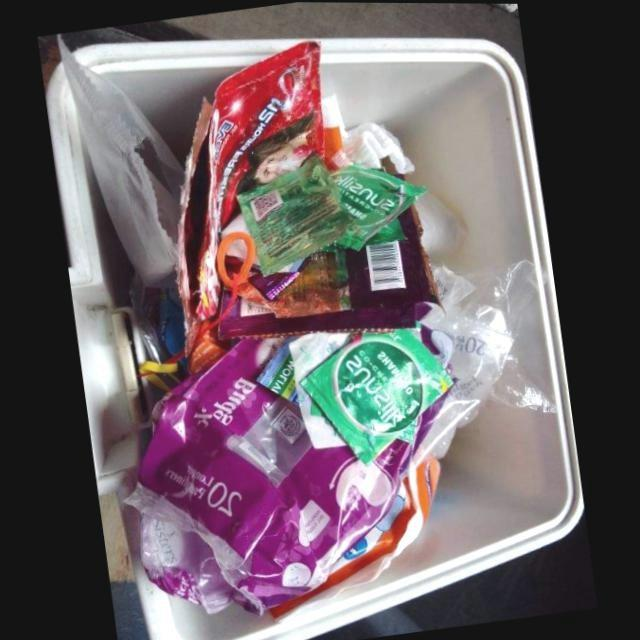paper: (324, 118, 415, 175), (421, 187, 469, 261)
plastic_bag: (123, 335, 416, 613), (411, 258, 561, 476), (58, 39, 184, 284)
plastic_sachet: (185, 41, 326, 371), (218, 204, 447, 342), (267, 457, 443, 624), (302, 326, 454, 460), (237, 154, 352, 276), (332, 163, 429, 250)
